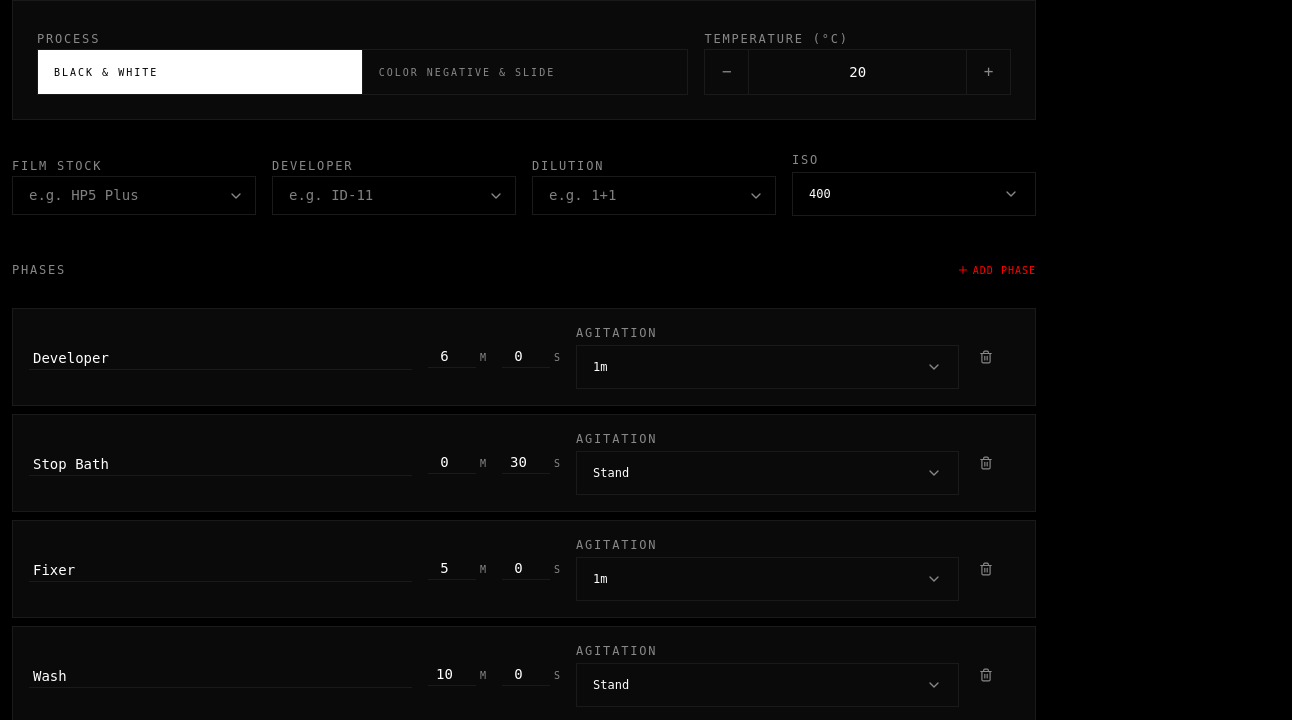
Test: ManualTimerForm › switches process mode defaults and keeps developer/fixer agitation in sync
Expected: the 1st field showing "Developer" is shown, [29, 348, 412, 370]
Expected: the 2nd field showing "Stop Bath" is shown, [29, 454, 412, 476]
Click the button named "agitation 1m". click: click(600, 367)
box: [576, 345, 959, 389]
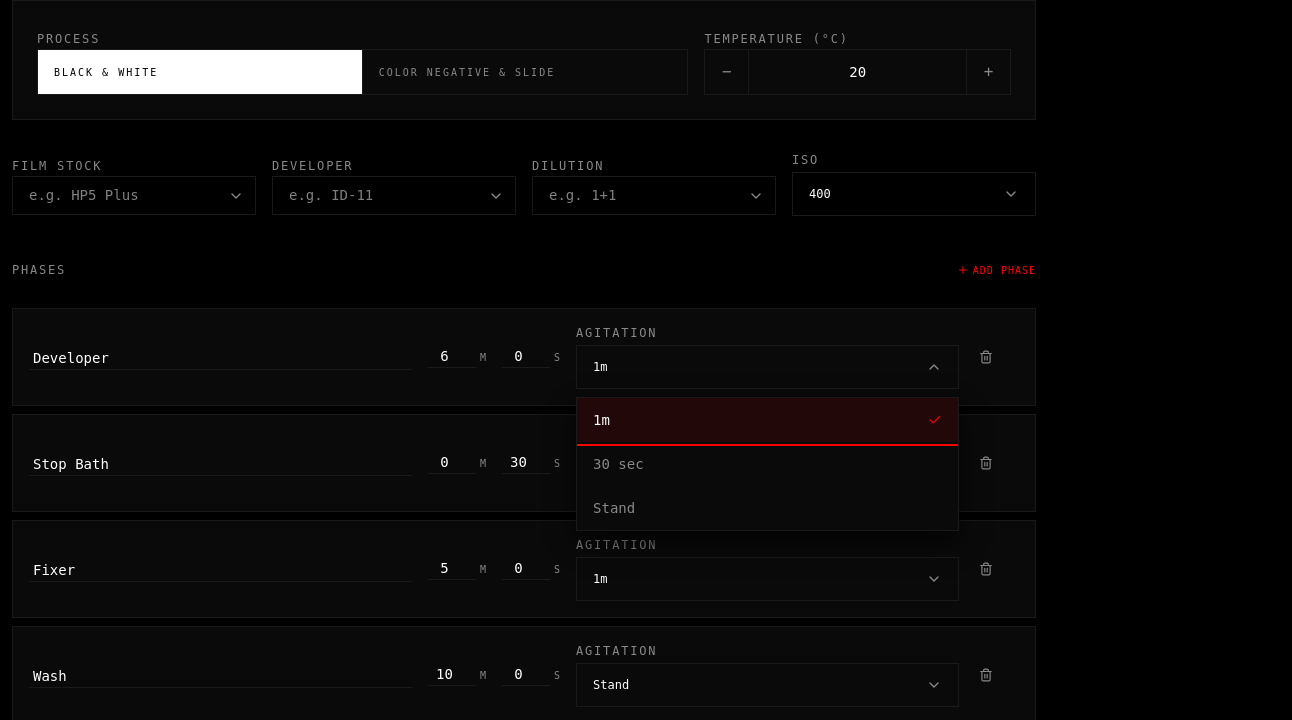
Click the option "30 sec". click: click(618, 464)
box: [577, 442, 958, 486]
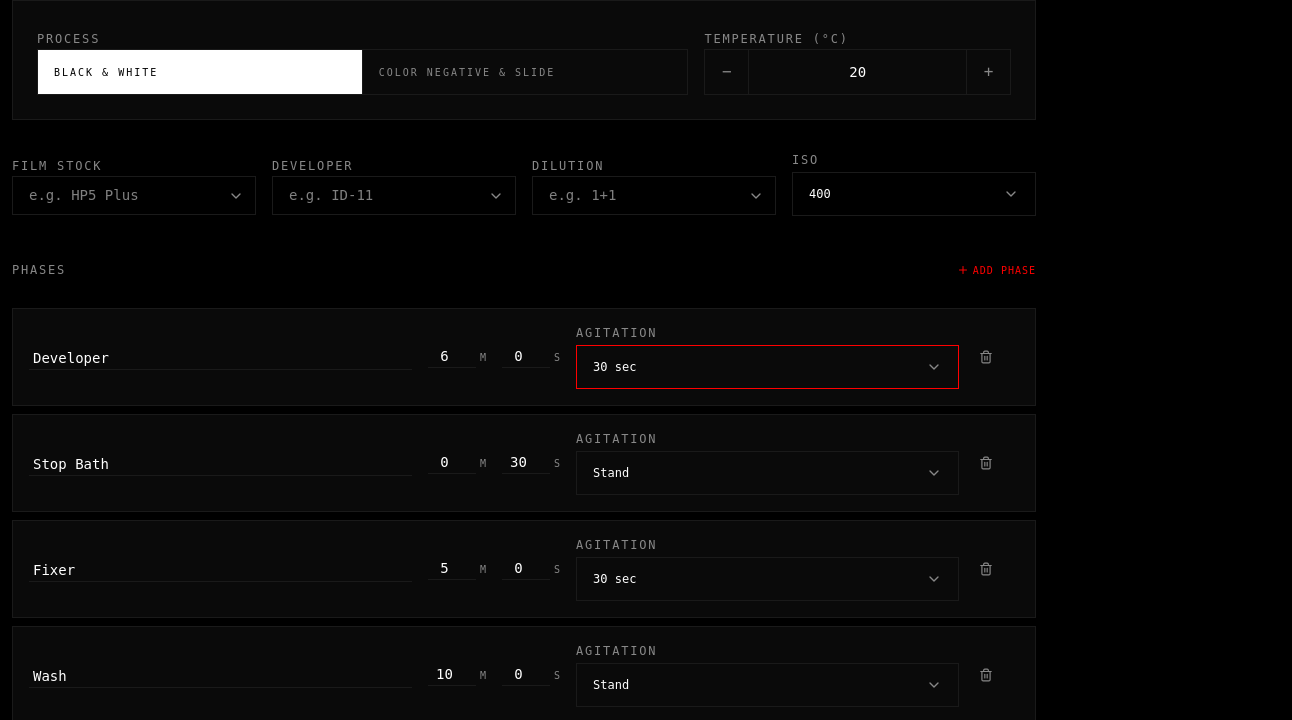
Expected: the button named "agitation 1m" reads "30 sec"
Click the button named "agitation 1m". click: click(615, 579)
box: [576, 557, 959, 601]
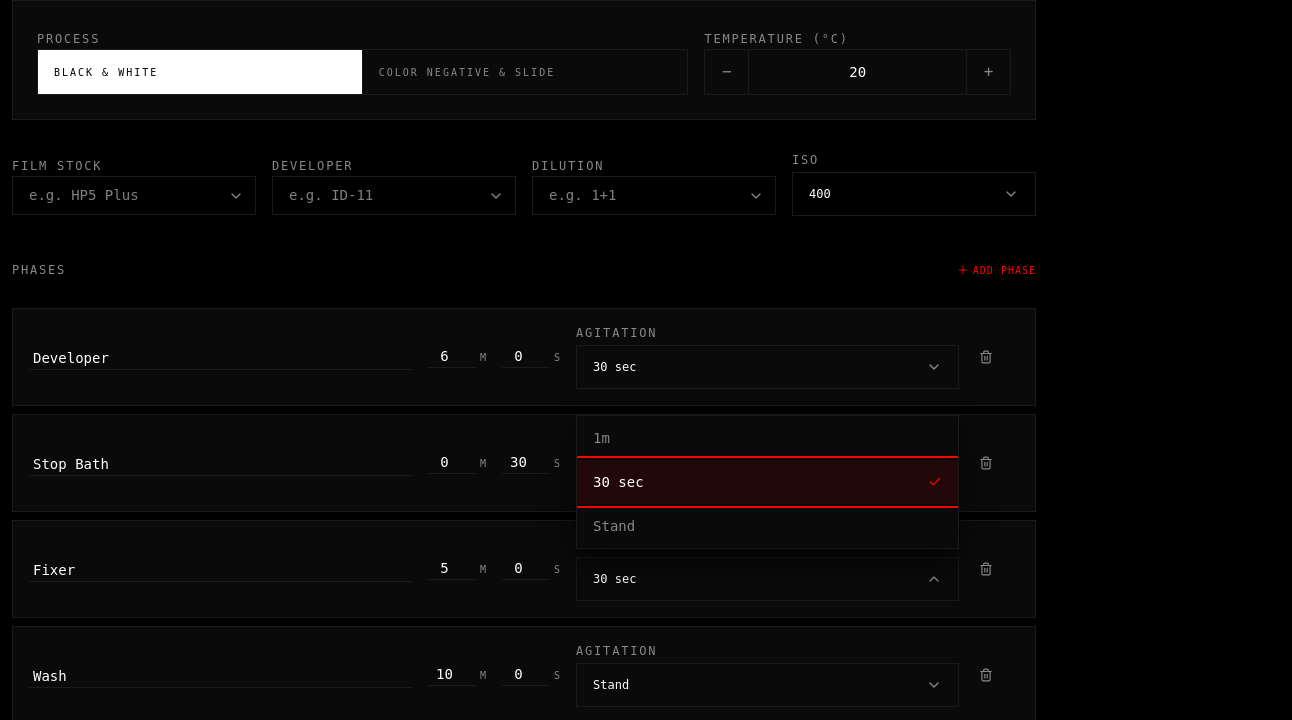
Click the option "Stand". click: click(614, 526)
box: [577, 504, 958, 548]
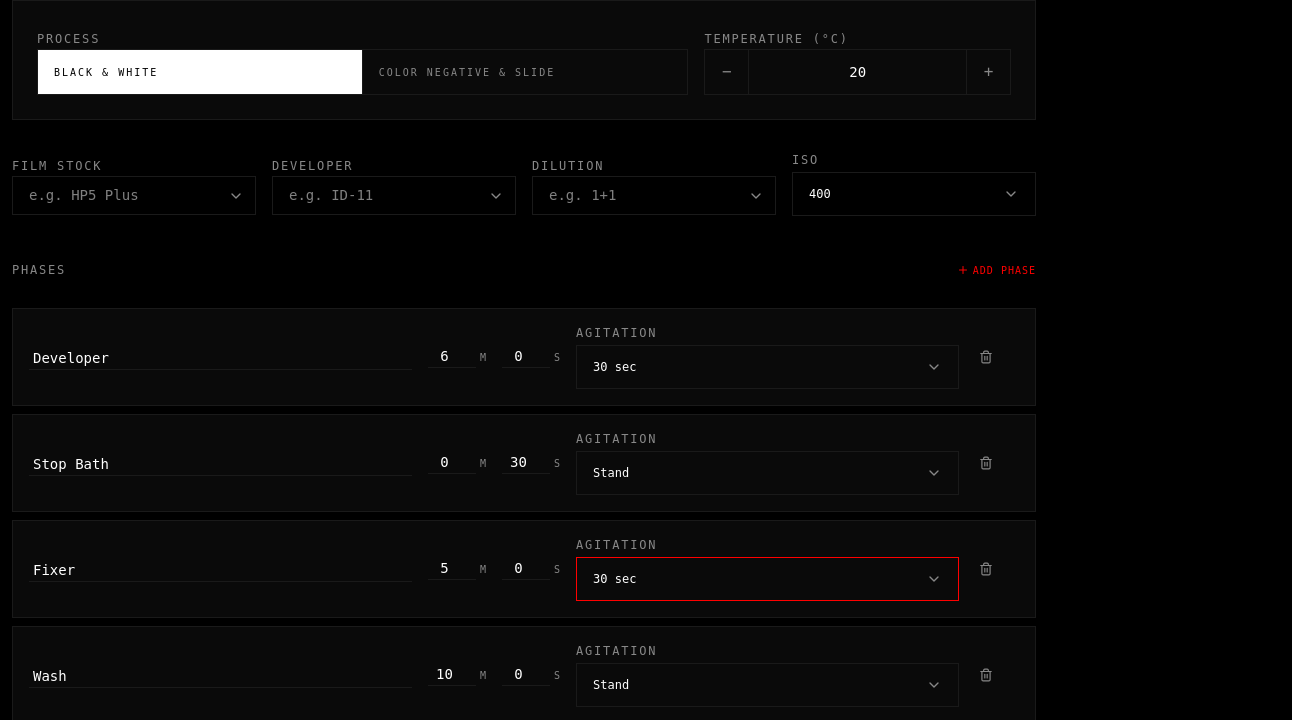
Expected: the button named "agitation 1m" reads "30 sec", [576, 557, 959, 601]
Click the button "Color Negative & Slide". click: click(525, 72)
box: [363, 50, 687, 94]
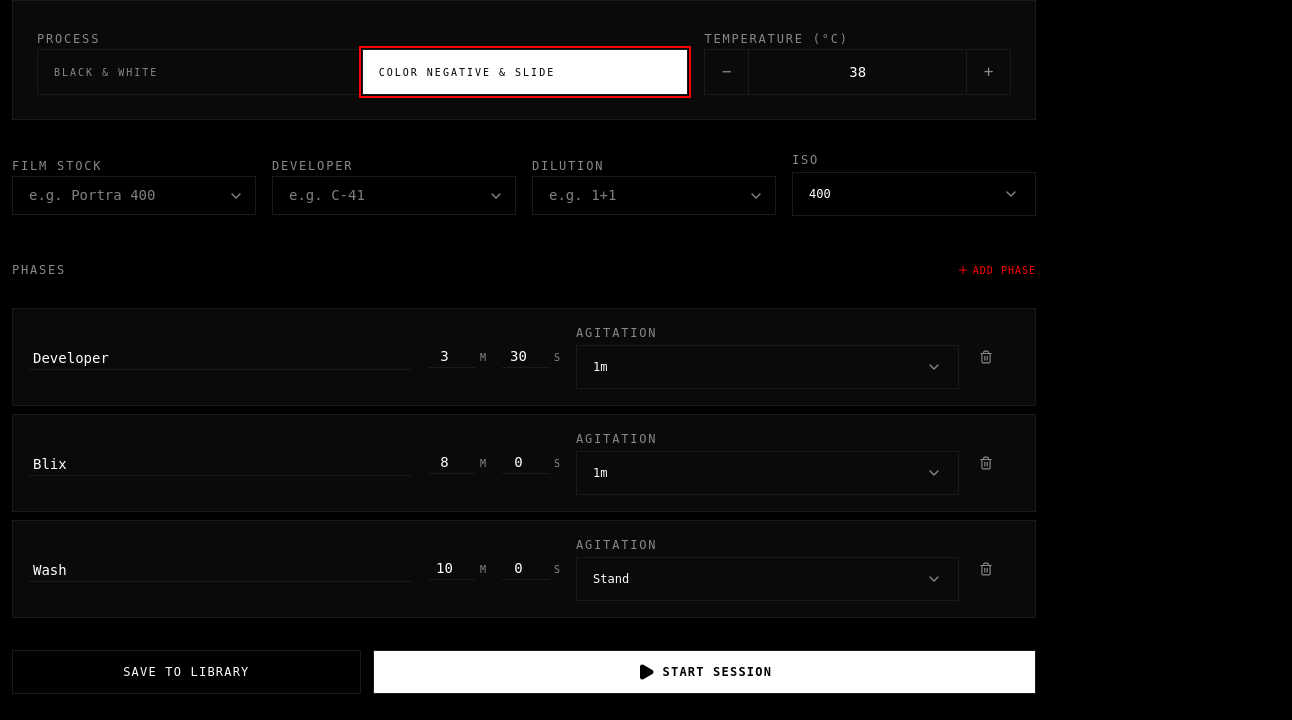
Expected: the 2nd field showing "Blix" is shown, [29, 454, 412, 476]
Expected: the number field showing "38" below "Temperature (°C)" is shown, [749, 50, 966, 94]
